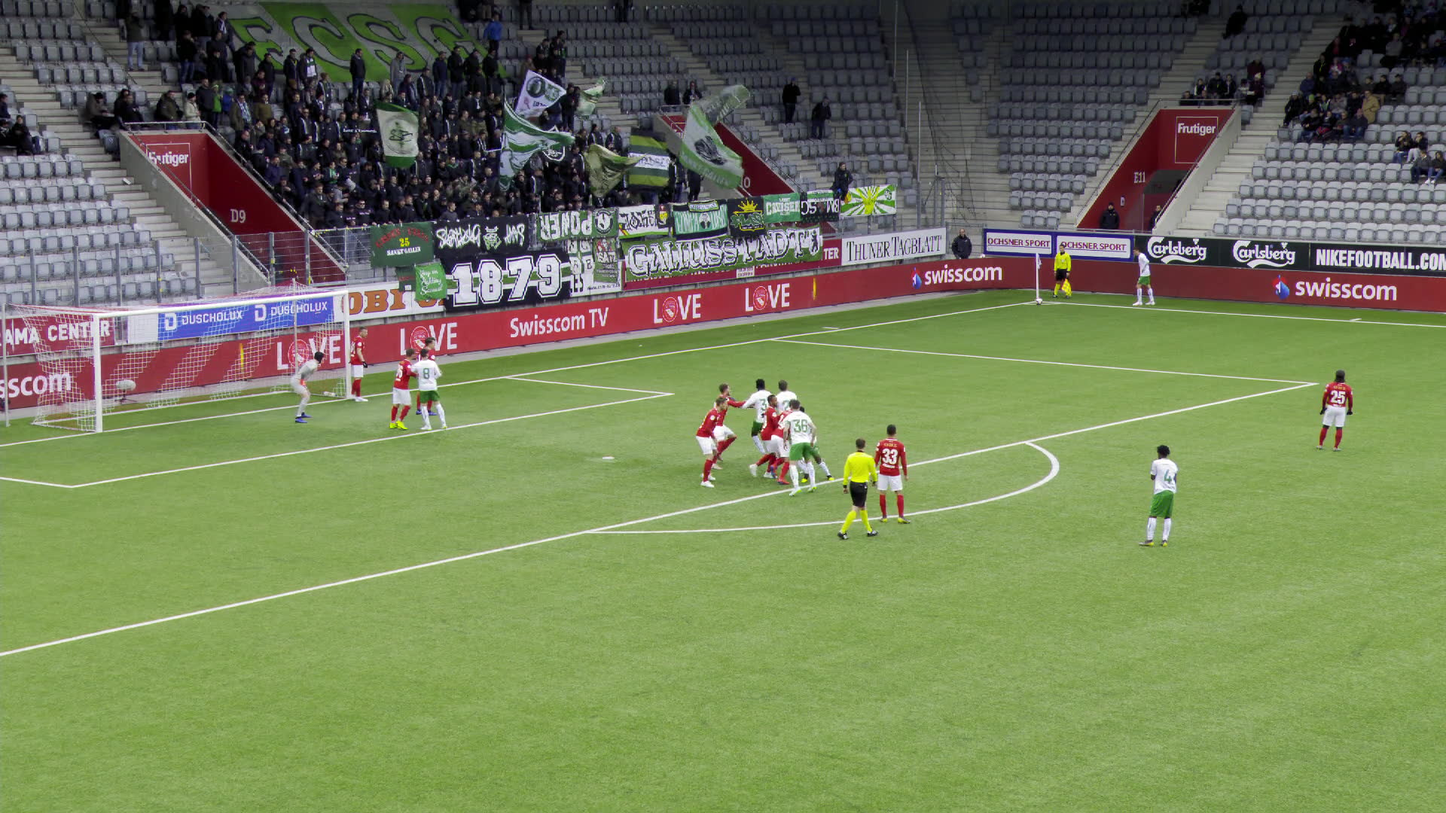ball: (1034, 297, 1042, 304)
player: (1137, 444, 1177, 547), (874, 425, 911, 525), (695, 396, 731, 487), (734, 380, 773, 463), (1315, 369, 1353, 452), (783, 401, 816, 496), (709, 379, 743, 467), (411, 347, 446, 430), (767, 396, 797, 484), (388, 347, 418, 429), (291, 351, 323, 424), (789, 409, 822, 479), (752, 394, 779, 479), (411, 336, 438, 415), (773, 379, 796, 461), (347, 325, 368, 403), (1132, 245, 1156, 305)
referee: (837, 436, 876, 539), (1051, 243, 1072, 298)
